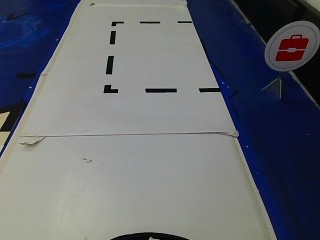company: (264, 20, 318, 71)
